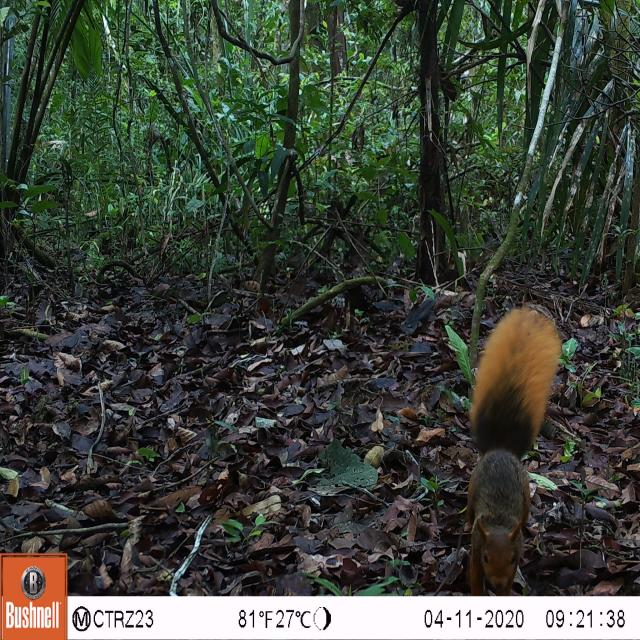Squirrel: (454, 304, 564, 593)
